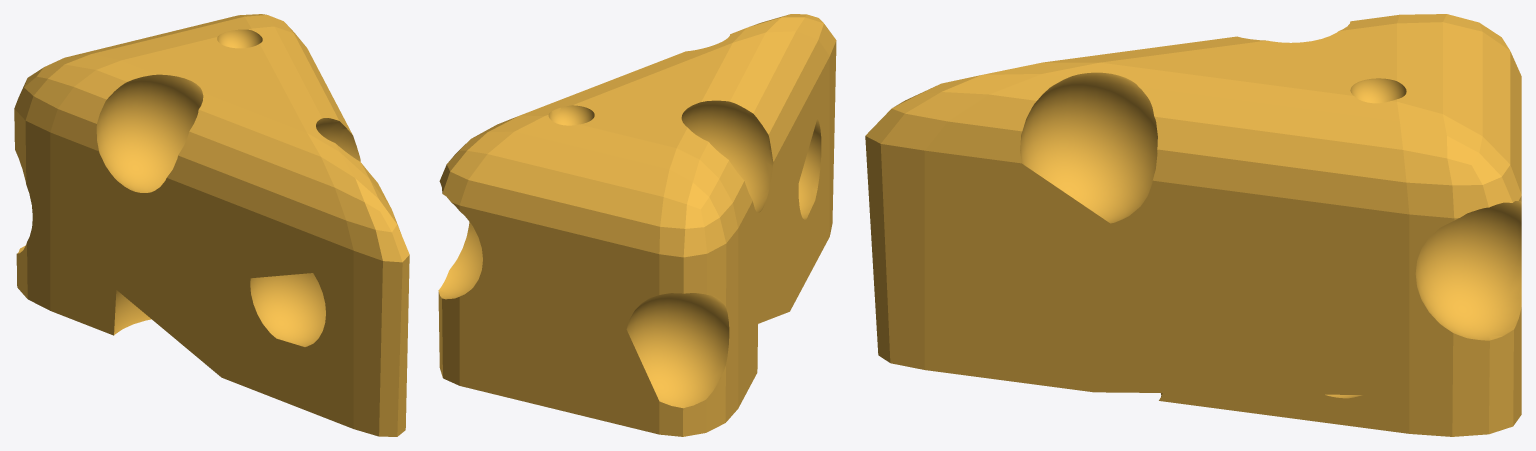
Rendered from Cheese 1.fbx.
3 renders of one model, left to right at view 1: azimuth 30°, elevation 25°; view 2: azimuth 150°, elevation 25°; view 3: azimuth 270°, elevation 25°, orthographic. The views are drawn at different scales.
Parts seen in each view (by area): view 1: Cube; view 2: Cube; view 3: Cube.
Boxes of the visible parts, x1,y1,x2,y2 form: Cube: [14, 14, 409, 436]; Cube: [438, 14, 836, 436]; Cube: [865, 14, 1521, 436].
Size of the model in its own units: 26.12 by 21.6 by 43.9.
